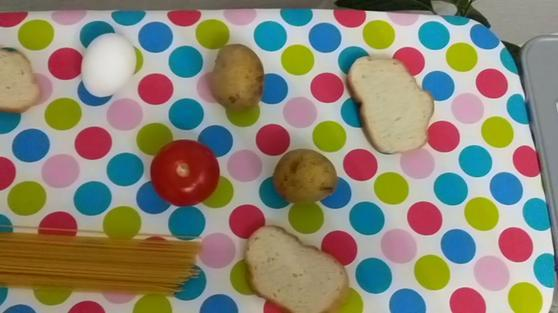egg: (75, 24, 144, 106)
potato: (266, 144, 347, 210), (209, 40, 274, 111)
spaghetti: (1, 230, 212, 295)
tomato: (147, 136, 221, 208)
white_bread: (240, 220, 359, 312), (347, 51, 437, 159), (1, 46, 44, 115)
